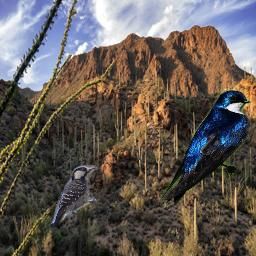Swallow: (161, 90, 251, 205)
Woodpecker: (46, 163, 100, 233)
